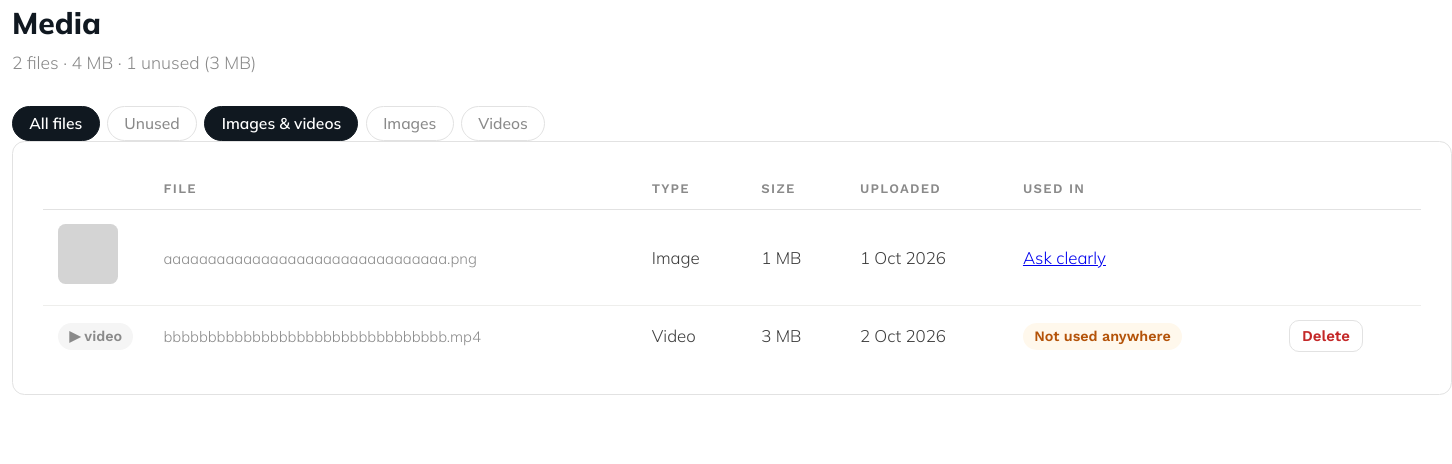
Test case: MediaPage › shows a refused delete (file now in use)
Expected: the link "Ask clearly" is shown, x1=1023 y1=247 x2=1106 y2=268
Click the button "Delete": (1326, 336) x1=1288 y1=320 x2=1363 y2=352
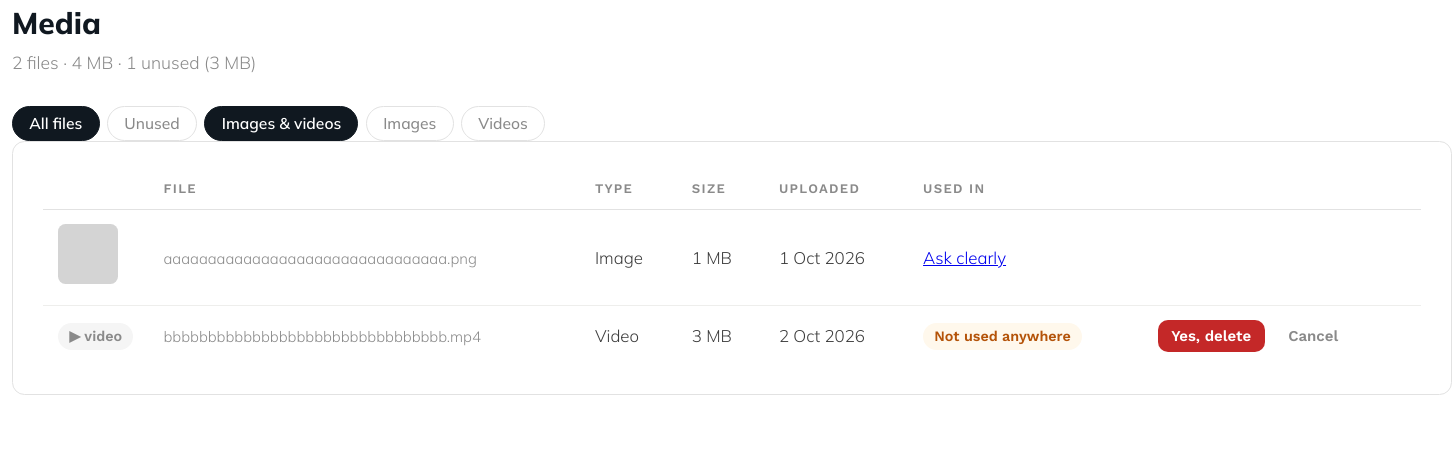
Click the button "Yes, delete": (1211, 336) x1=1158 y1=320 x2=1265 y2=352
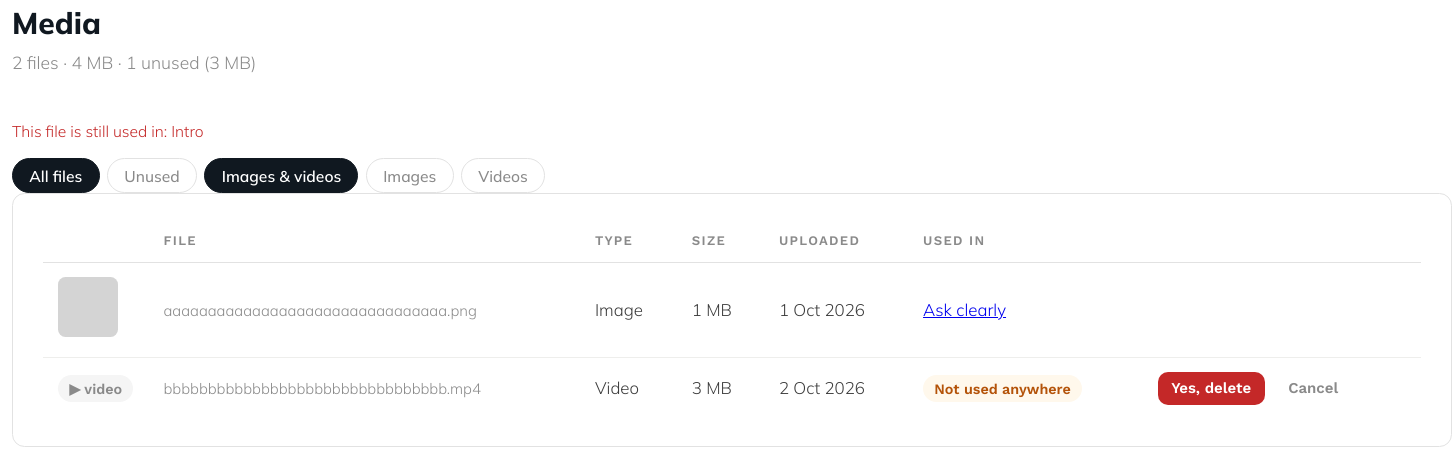
Expected: the text "This file is still used in: Intro" is shown, x1=12 y1=121 x2=204 y2=141
